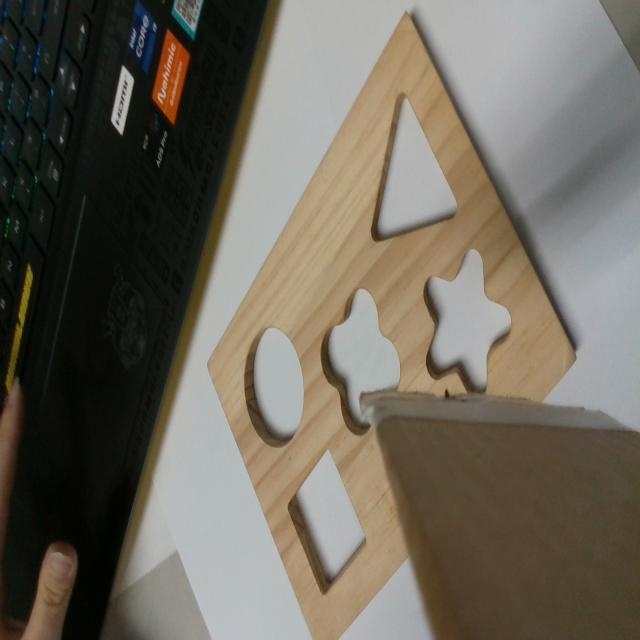circle: (248, 329, 303, 440)
flower: (319, 291, 401, 430)
square: (286, 450, 369, 601)
star: (423, 249, 509, 394)
triangle: (370, 92, 457, 243)
